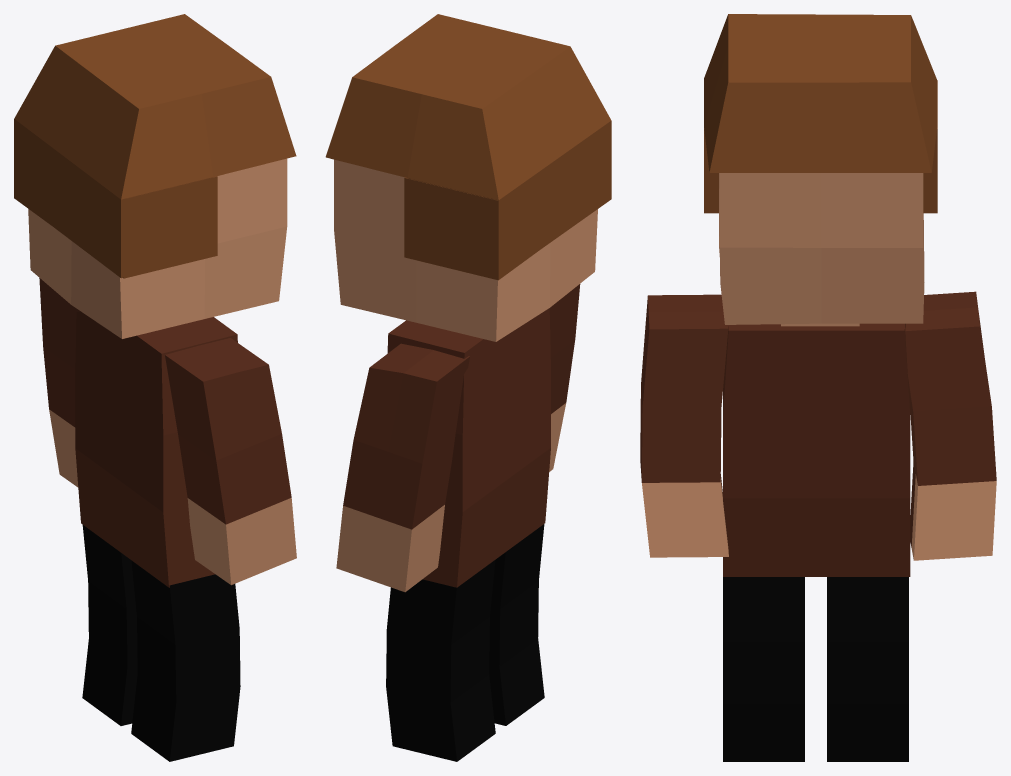
Rendered from Dorpeling.fbx.
3 views of the same model, side by side, from view 1: azimuth 30°, elevation 25°; view 2: azimuth 150°, elevation 25°; view 3: azimuth 270°, elevation 25° (orthographic). The views are drawn at different scales.
Visible parts, largest first — view 1: hoofd; view 2: hoofd; view 3: hoofd.
Part boxes in pixels (x1,y1,x2,y2): hoofd: (14,14,296,761); hoofd: (325,14,611,761); hoofd: (640,14,996,761).
Bounding box in the file's own units: 22.73 × 80.28 × 37.05.
